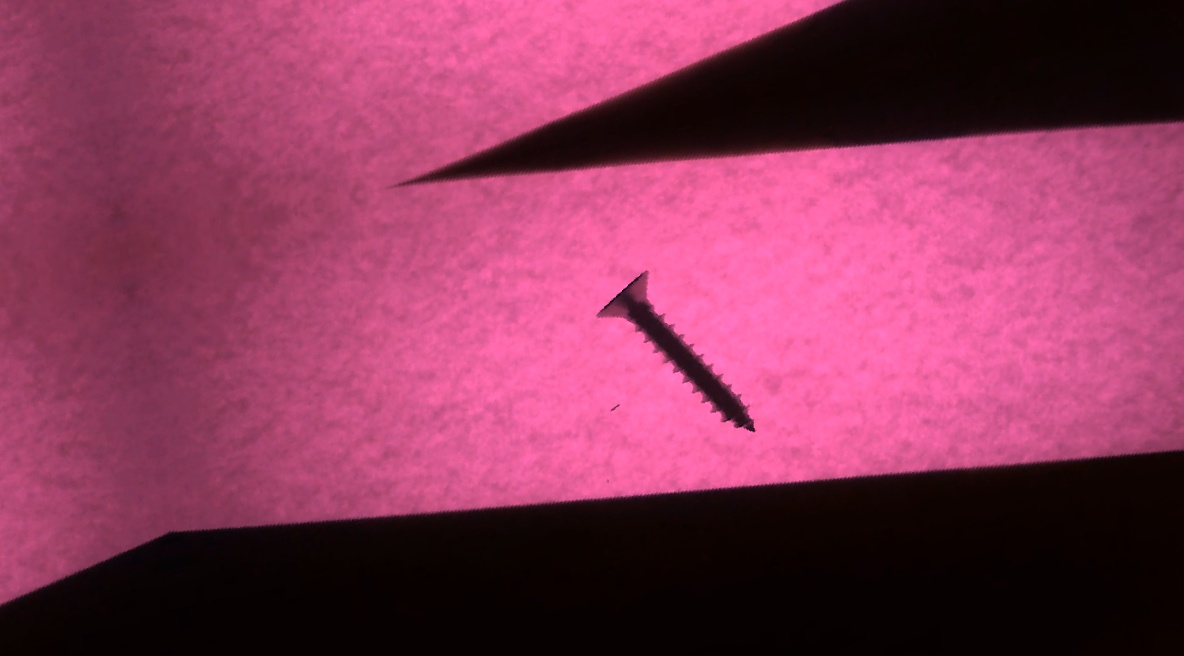S001: (572, 226, 788, 481)
